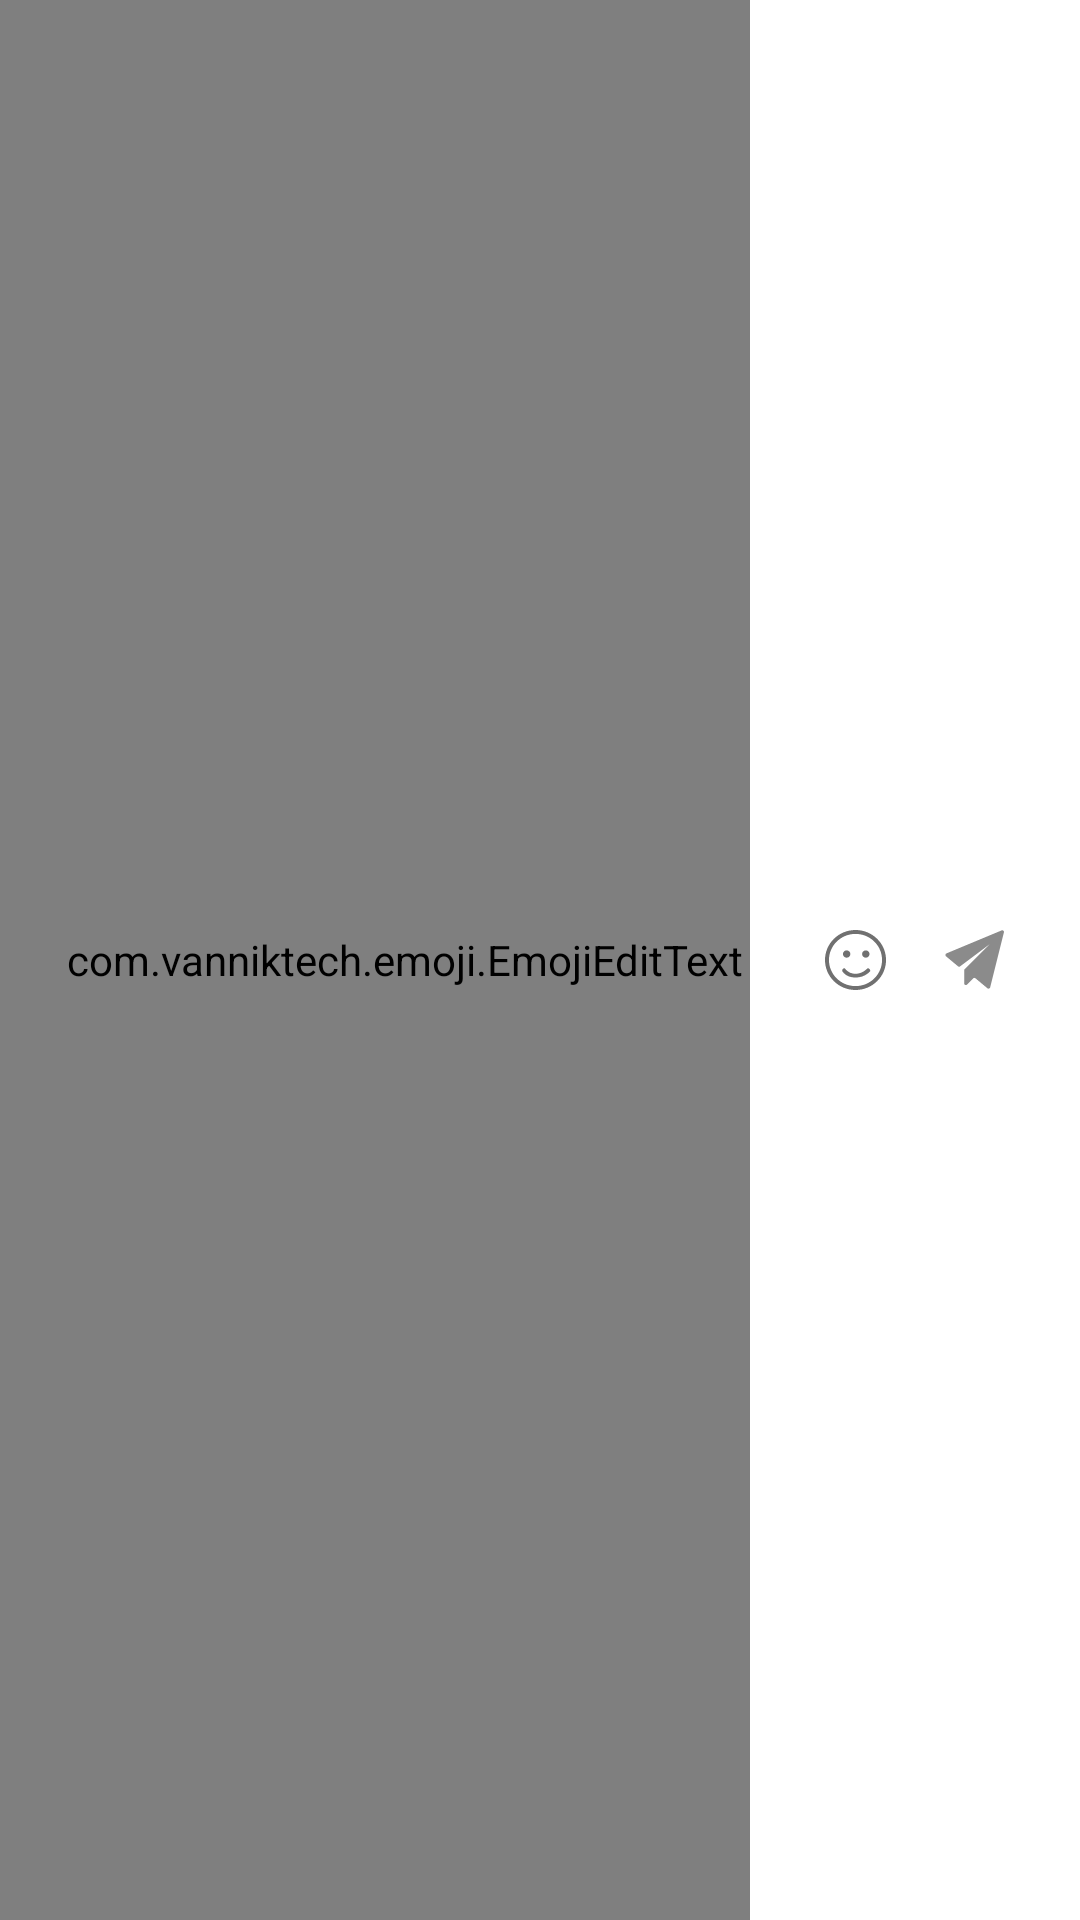

Icon bounding boxes for this 1080*1920 phone screenshot, format (x1, y1, x2, y2):
send msg: (945, 930, 1004, 989)
